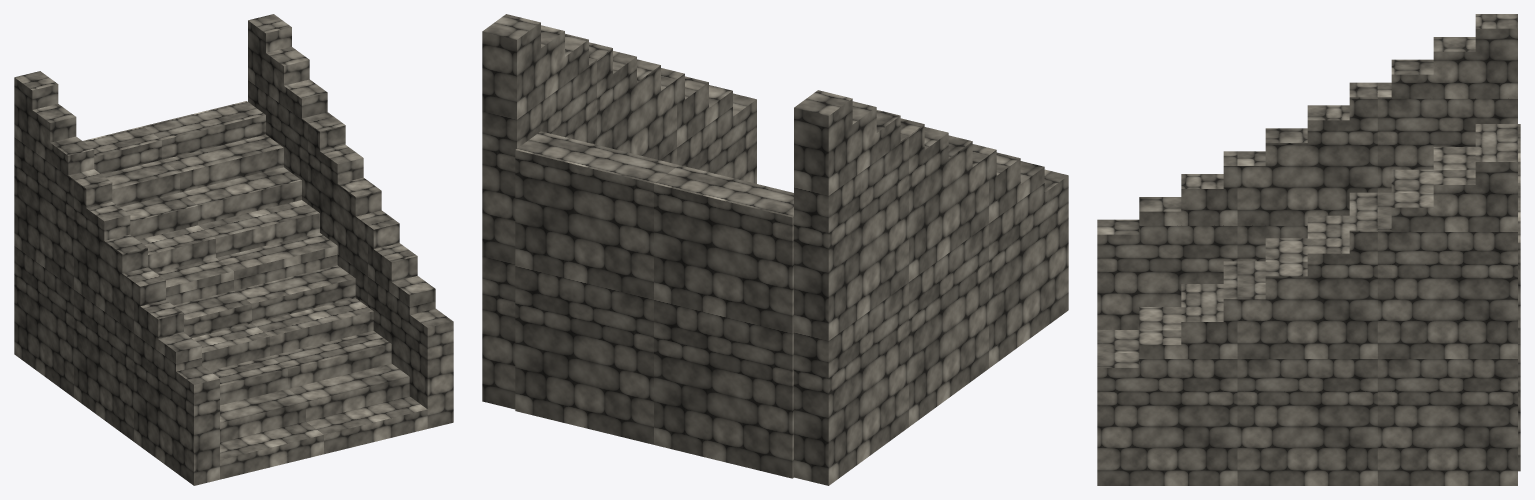
File: Stairs_Street_1.gltf
3 views of the same model, side by side, from view 1: azimuth 30°, elevation 25°; view 2: azimuth 150°, elevation 25°; view 3: azimuth 270°, elevation 25° (orthographic). The views are drawn at different scales.
Visible parts, largest first — view 1: Stairs_Street_1; view 2: Stairs_Street_1; view 3: Stairs_Street_1.
Part boxes in pixels (box(x1,y1,x2,y2)): Stairs_Street_1: box(14, 14, 453, 485); Stairs_Street_1: box(482, 14, 1068, 485); Stairs_Street_1: box(1097, 14, 1520, 485).
Size of the model in its own units: 2.5 by 2.55 by 3.02.
1 material, 1 textured.
